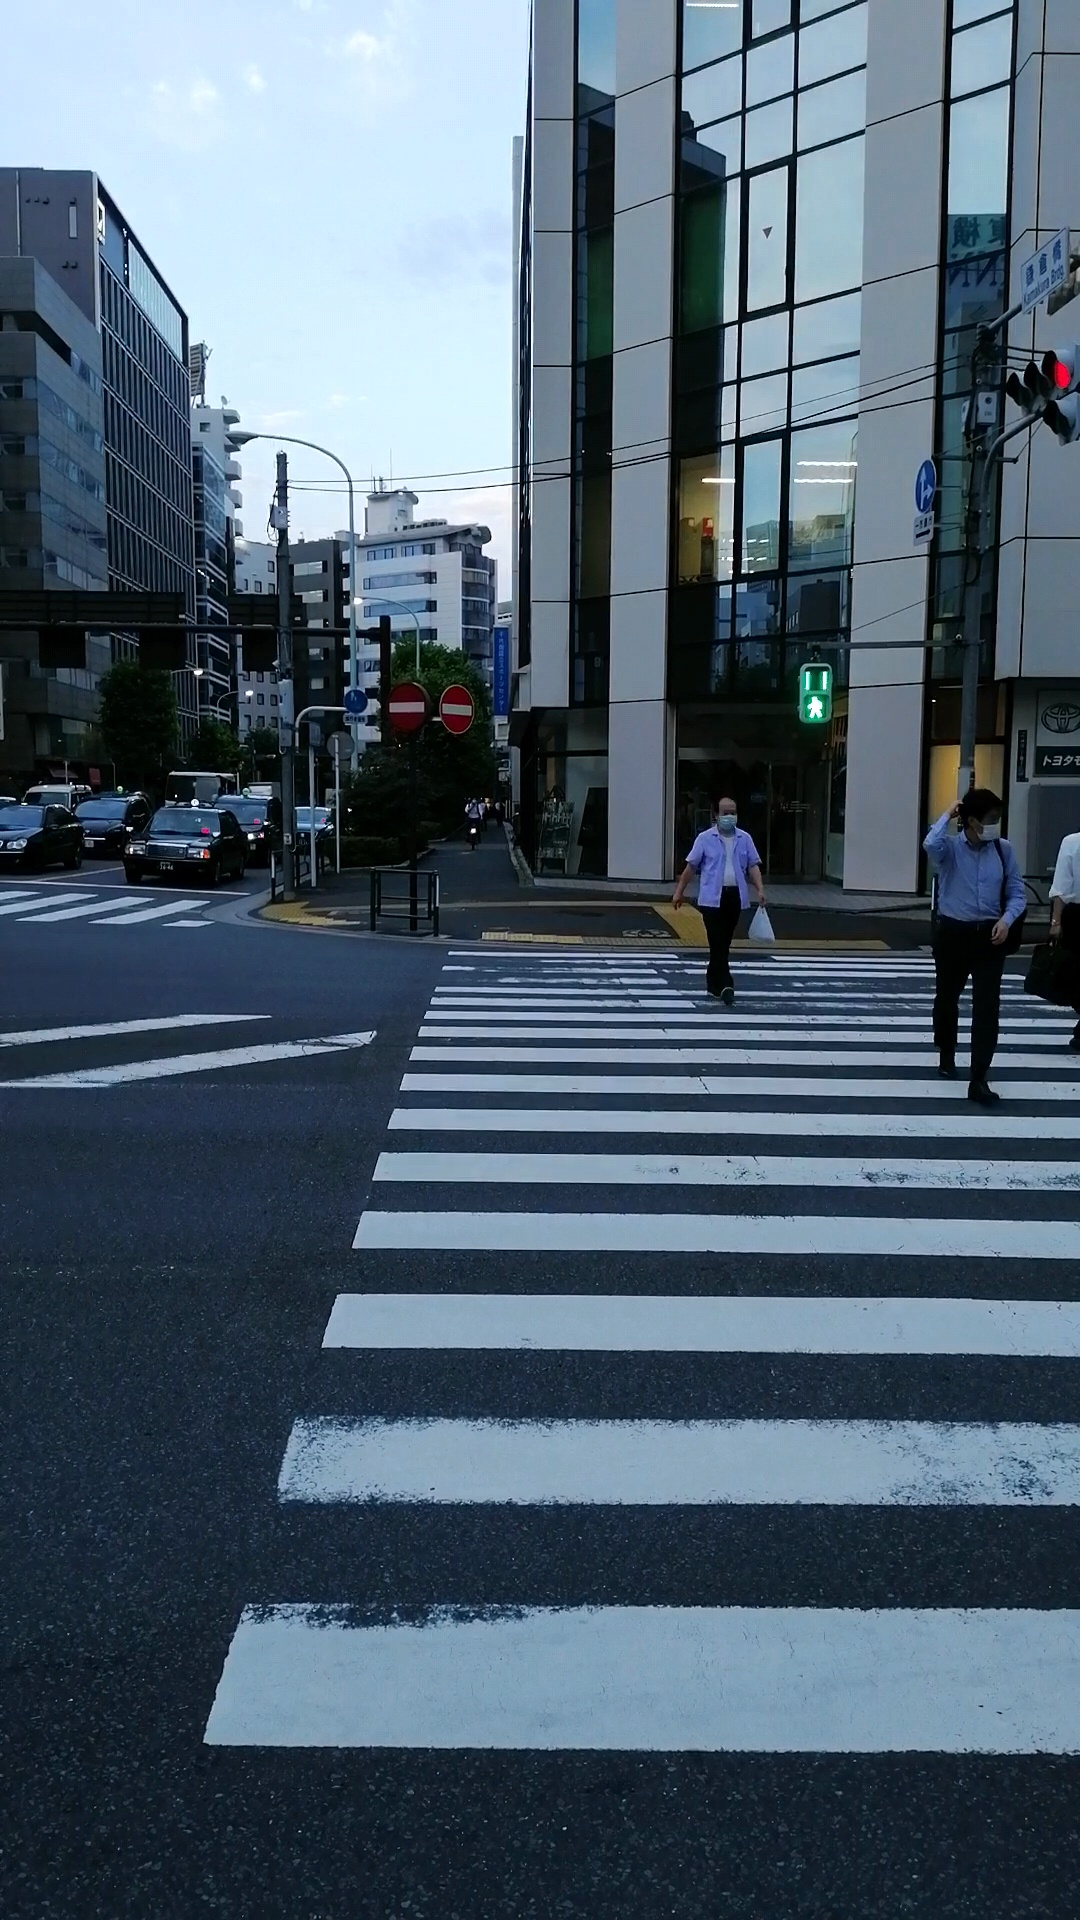green: (796, 662, 833, 724)
